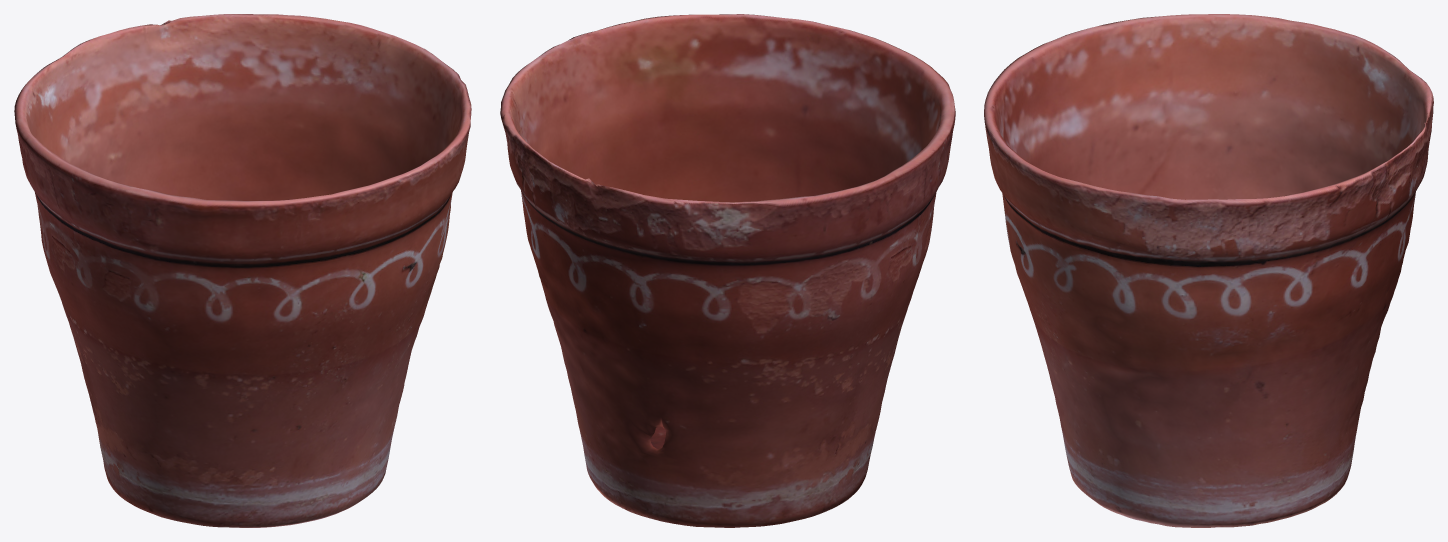
Rendered from flower_pot-v11.glb.
3 renders of one model, left to right at view 1: azimuth 30°, elevation 25°; view 2: azimuth 150°, elevation 25°; view 3: azimuth 270°, elevation 25°, orthographic.
Visible parts, largest first — view 1: Object_2; view 2: Object_2; view 3: Object_2.
Boxes of the visible parts, <box> form: Object_2: <box>14,14,471,527</box>; Object_2: <box>500,14,955,527</box>; Object_2: <box>984,14,1433,527</box>.
Size of the model in its own units: 0.1736 by 0.1552 by 0.1722.
1 material, 1 textured.
